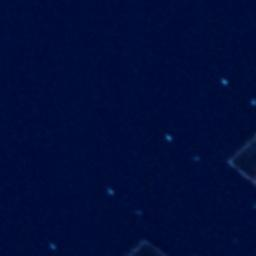square_solid: (225, 131, 256, 186), (120, 237, 168, 256)
